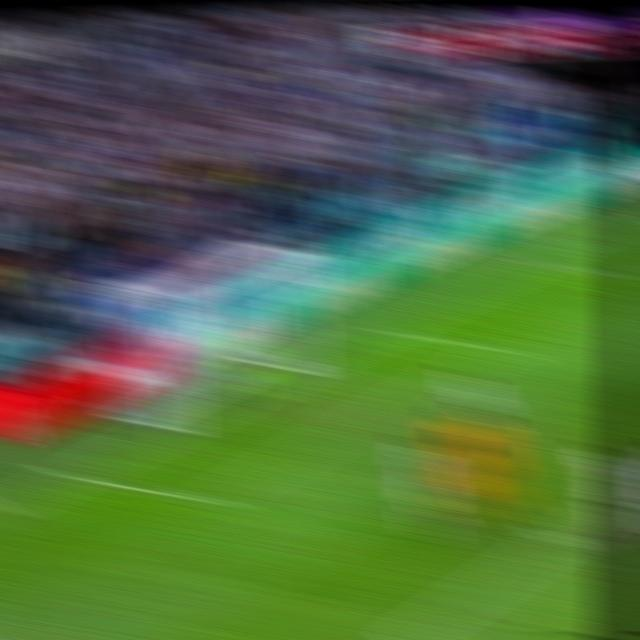bigarea_top_outter: (505, 246, 552, 278)
bottom_arc_area_intersection: (533, 518, 589, 561)
smallarea_bottom_inner: (183, 476, 241, 523)
smallarea_bottom_outter: (46, 457, 100, 494)
smallarea_top_inner: (479, 331, 532, 367)
smallarea_top_outter: (358, 314, 408, 349)
